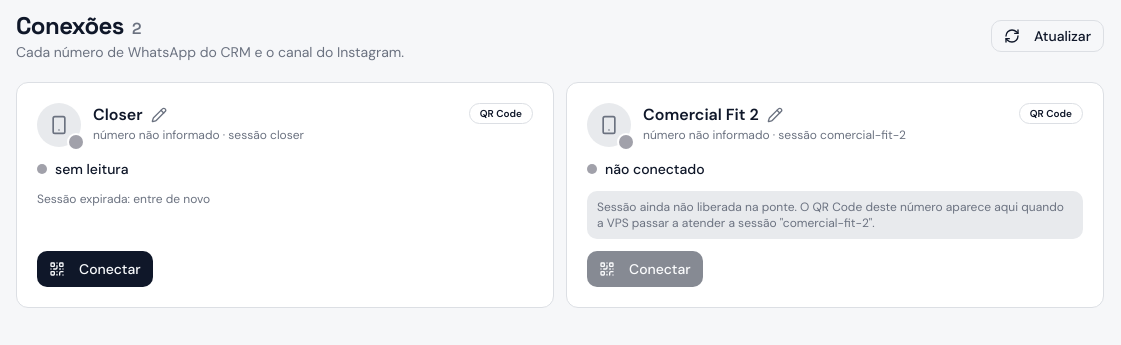
Scenario: /crm/conexoes: lápis no nome do cartão › cancelar volta o nome; repetido mostra erro e não chama o banco
Click the button named "Editar nome" at (775, 115), box [763,103,787,127]
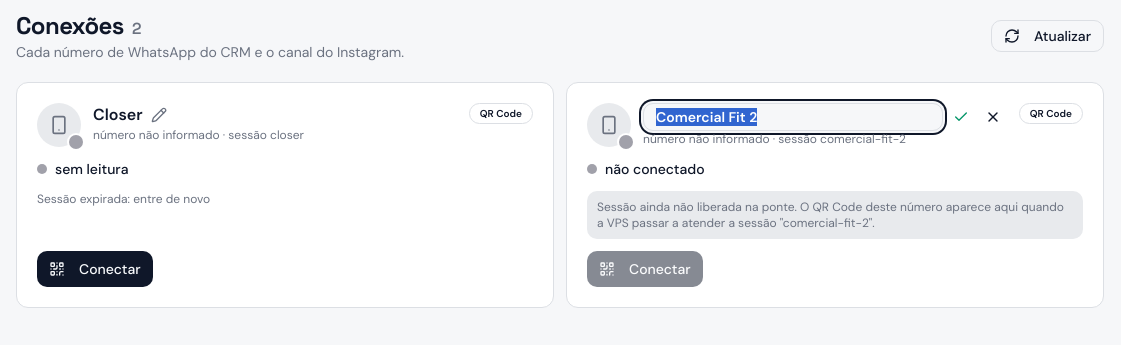
Replace the text in the field with "closer" at (793, 117), box [643,103,943,131]
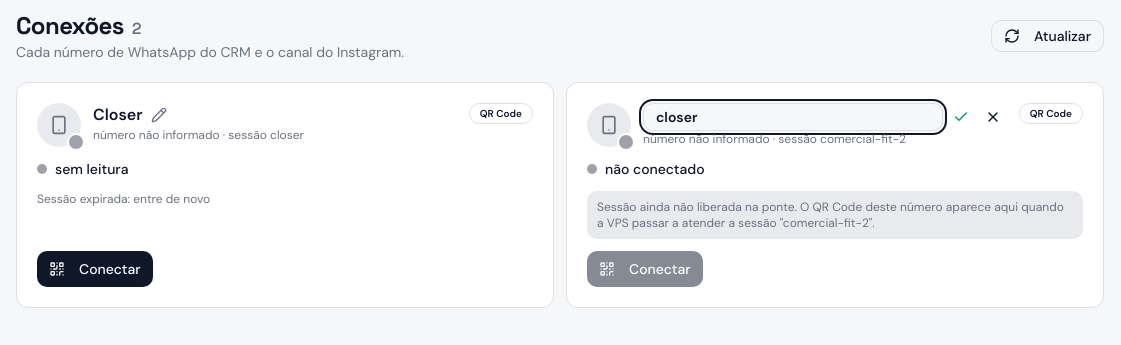
Click the button named "Salvar nome" at (961, 117), box [947,103,975,131]
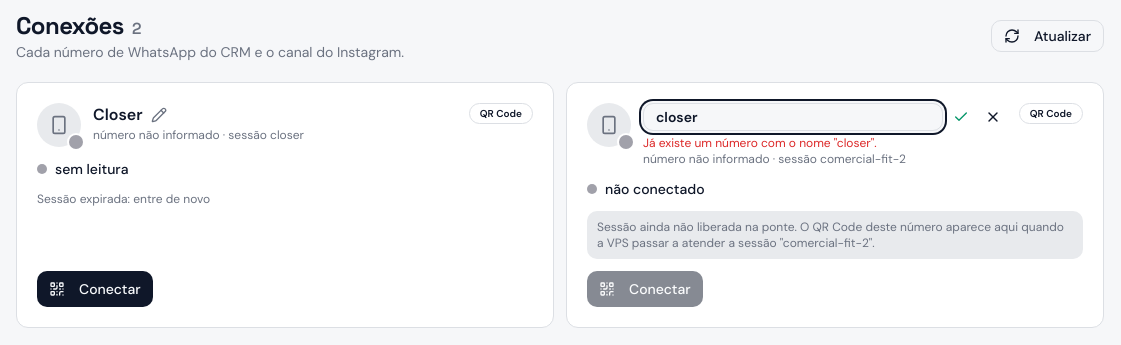
Check: the message shows "Já existe um número com o nome \"closer\"", box [643,135,877,151]
Click the button named "Cancelar edição do nome" at (993, 117), box [979,103,1007,131]
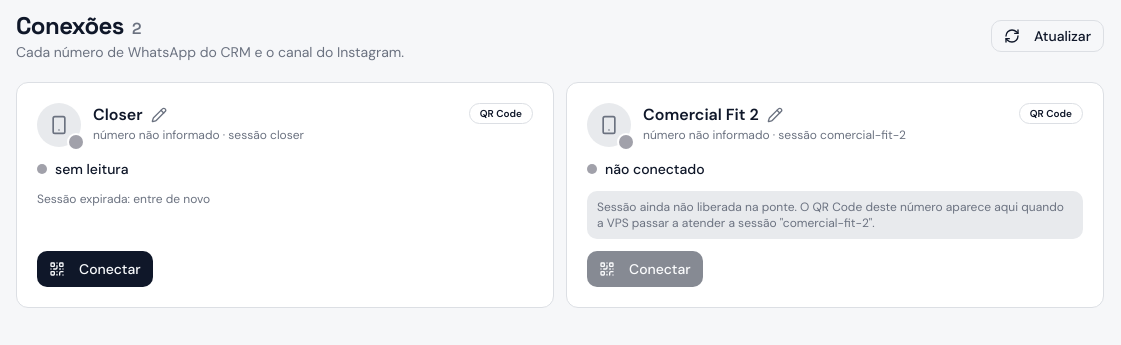
Check: the text "Comercial Fit 2" is shown, box [643,103,759,127]
Check: the field is gone
